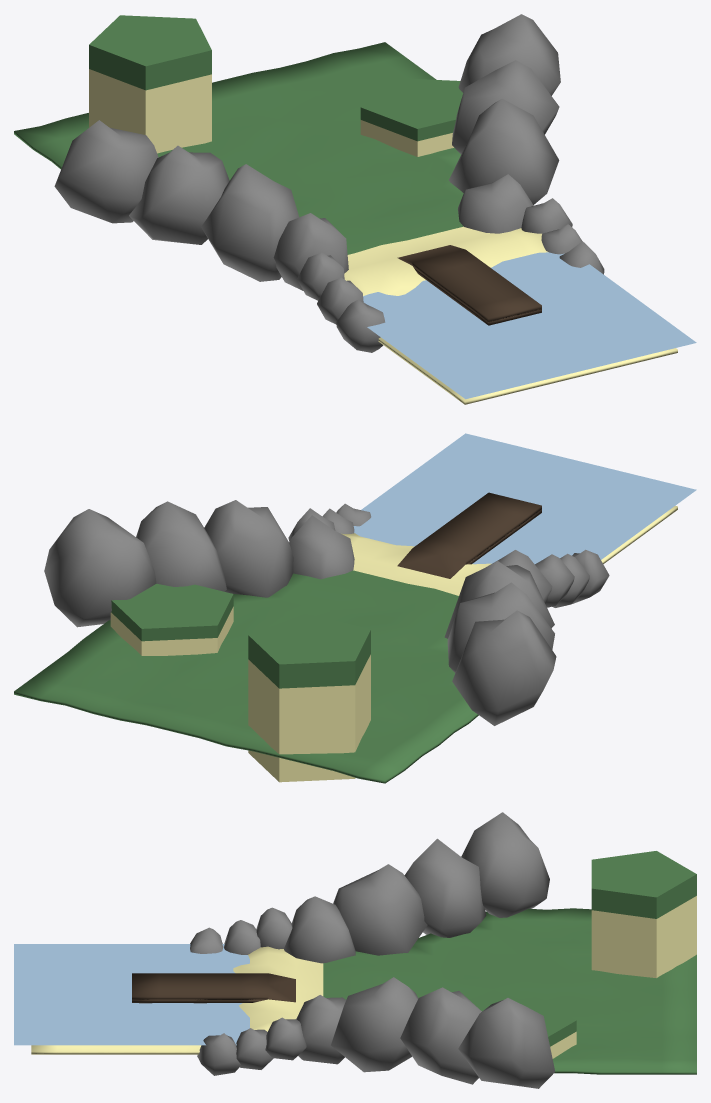
File: DebugIsland.fbx
3 views of the same model, one above another, from view 1: azimuth 30°, elevation 25°; view 2: azimuth 150°, elevation 25°; view 3: azimuth 270°, elevation 25° (orthographic). The views are drawn at different scales.
Parts seen in each view (by area): view 1: Plane; view 2: Plane; view 3: Plane.
Boxes of the visible parts, box(x1,y1,x2,y2) form: Plane: box(14, 14, 696, 404); Plane: box(14, 433, 696, 783); Plane: box(14, 812, 696, 1088).
Size of the model in its own units: 14836 by 3887 by 19563.
